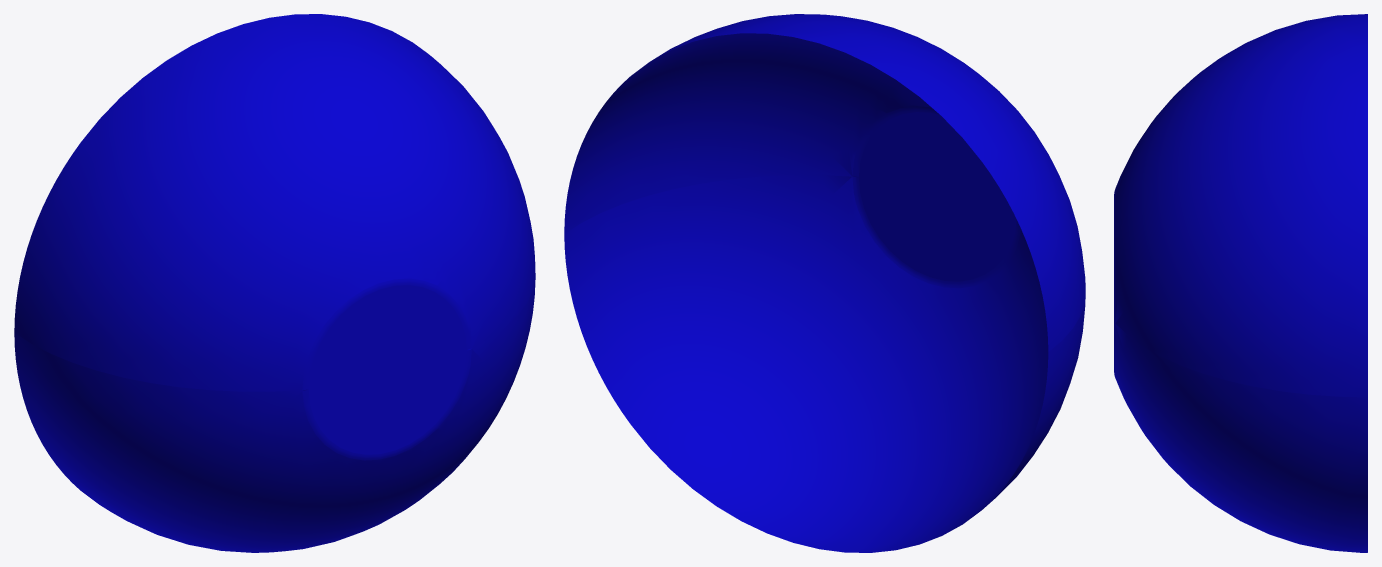
The model's file is mid360_blueglass.obj.
3 renders of one model, left to right at view 1: azimuth 30°, elevation 25°; view 2: azimuth 150°, elevation 25°; view 3: azimuth 270°, elevation 25°, orthographic. The views are drawn at different scales.
Parts seen in each view (by area): view 1: empty_2.001_blueglass; view 2: empty_2.001_blueglass; view 3: empty_2.001_blueglass.
Boxes of the visible parts, box(x1,y1,x2,y2) form: empty_2.001_blueglass: box(14, 14, 535, 552); empty_2.001_blueglass: box(564, 14, 1085, 552); empty_2.001_blueglass: box(1114, 14, 1367, 552).
Size of the model in its own units: 44 by 43.94 by 20.7.
